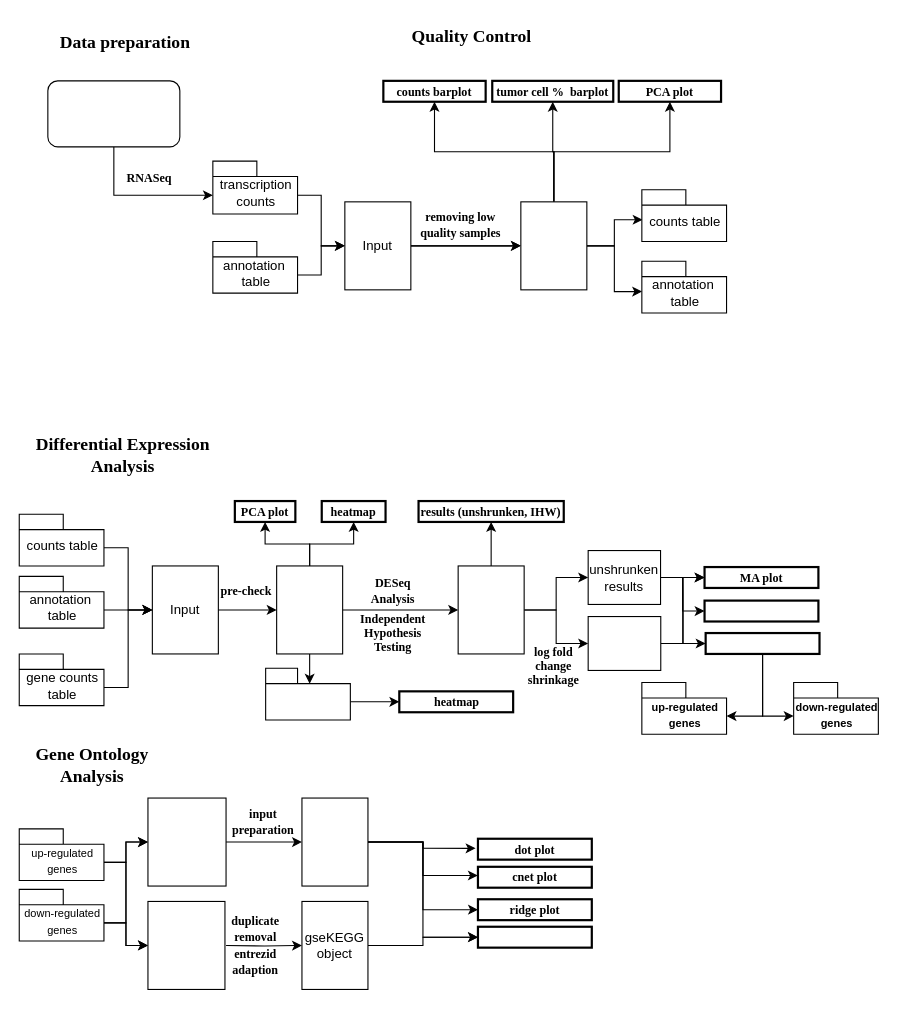
This 898x1009 diagram has some shape labels left out. Each missing label, with the box of its shape:
DESeq2 Object: (276, 565, 343, 654)
emma plot: (476, 925, 592, 948)
filtered data: (520, 201, 587, 290)
Gene set enrichment: (147, 797, 226, 886)
gseGO object: (301, 797, 368, 886)
KEGG pathway analysis: (147, 900, 225, 989)
nf-core: (47, 80, 180, 147)
normalized counts: (265, 667, 350, 720)
results (DEG's): (457, 565, 524, 654)
shrunken results: (587, 615, 661, 670)
significant DEG's: (704, 631, 820, 654)
volcano plot: (703, 599, 819, 622)
